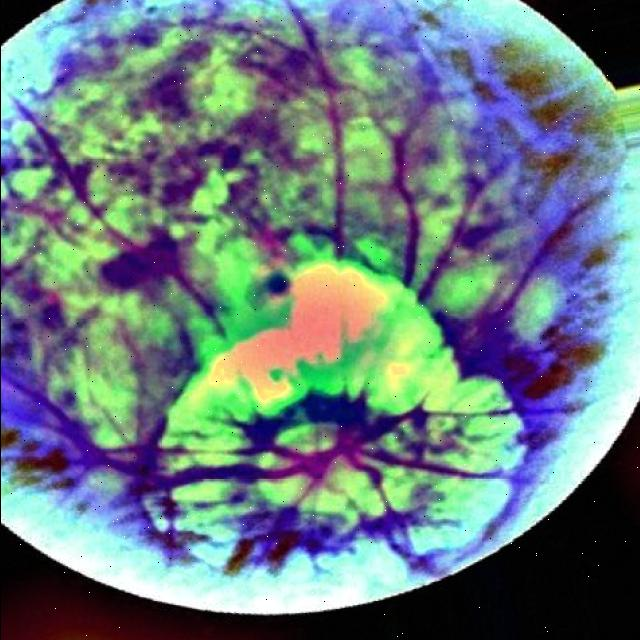Optic Disk: (171, 261, 436, 424)
